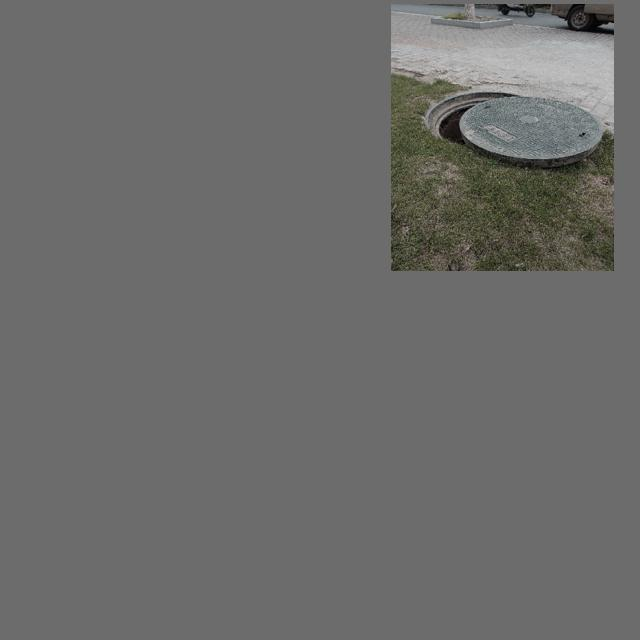uncovered: (422, 71, 597, 171)
